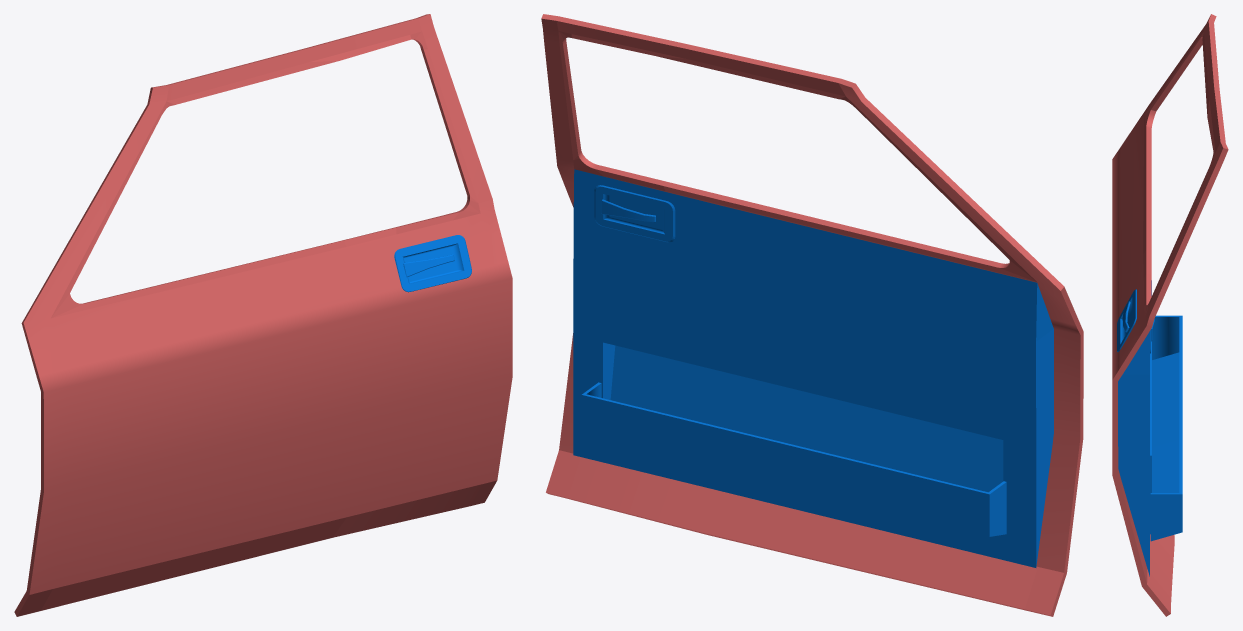
File: PickUp_Door.fbx
The picture shows the model from 3 angles, left to right: view 1: azimuth 30°, elevation 25°; view 2: azimuth 150°, elevation 25°; view 3: azimuth 270°, elevation 25°; orthographic projection. The views are drawn at different scales.
Visible parts, largest first — view 1: PickUp_Door; view 2: PickUp_Door; view 3: PickUp_Door.
Boxes of the visible parts, left/top/right/bottom form: PickUp_Door: left=14, top=14, right=512, bottom=616; PickUp_Door: left=541, top=14, right=1083, bottom=616; PickUp_Door: left=1112, top=14, right=1228, bottom=616.
Size of the model in its own units: 128 by 123 by 28.41.
